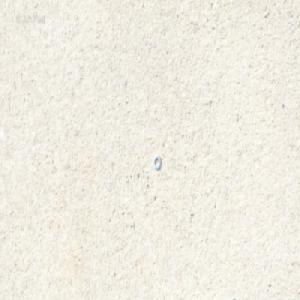Washer: (154, 155, 161, 170)
